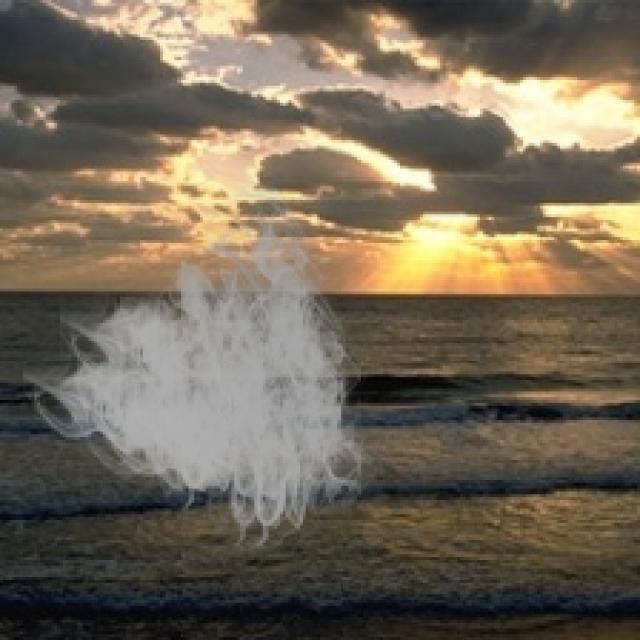Smoke: (23, 177, 386, 563)
